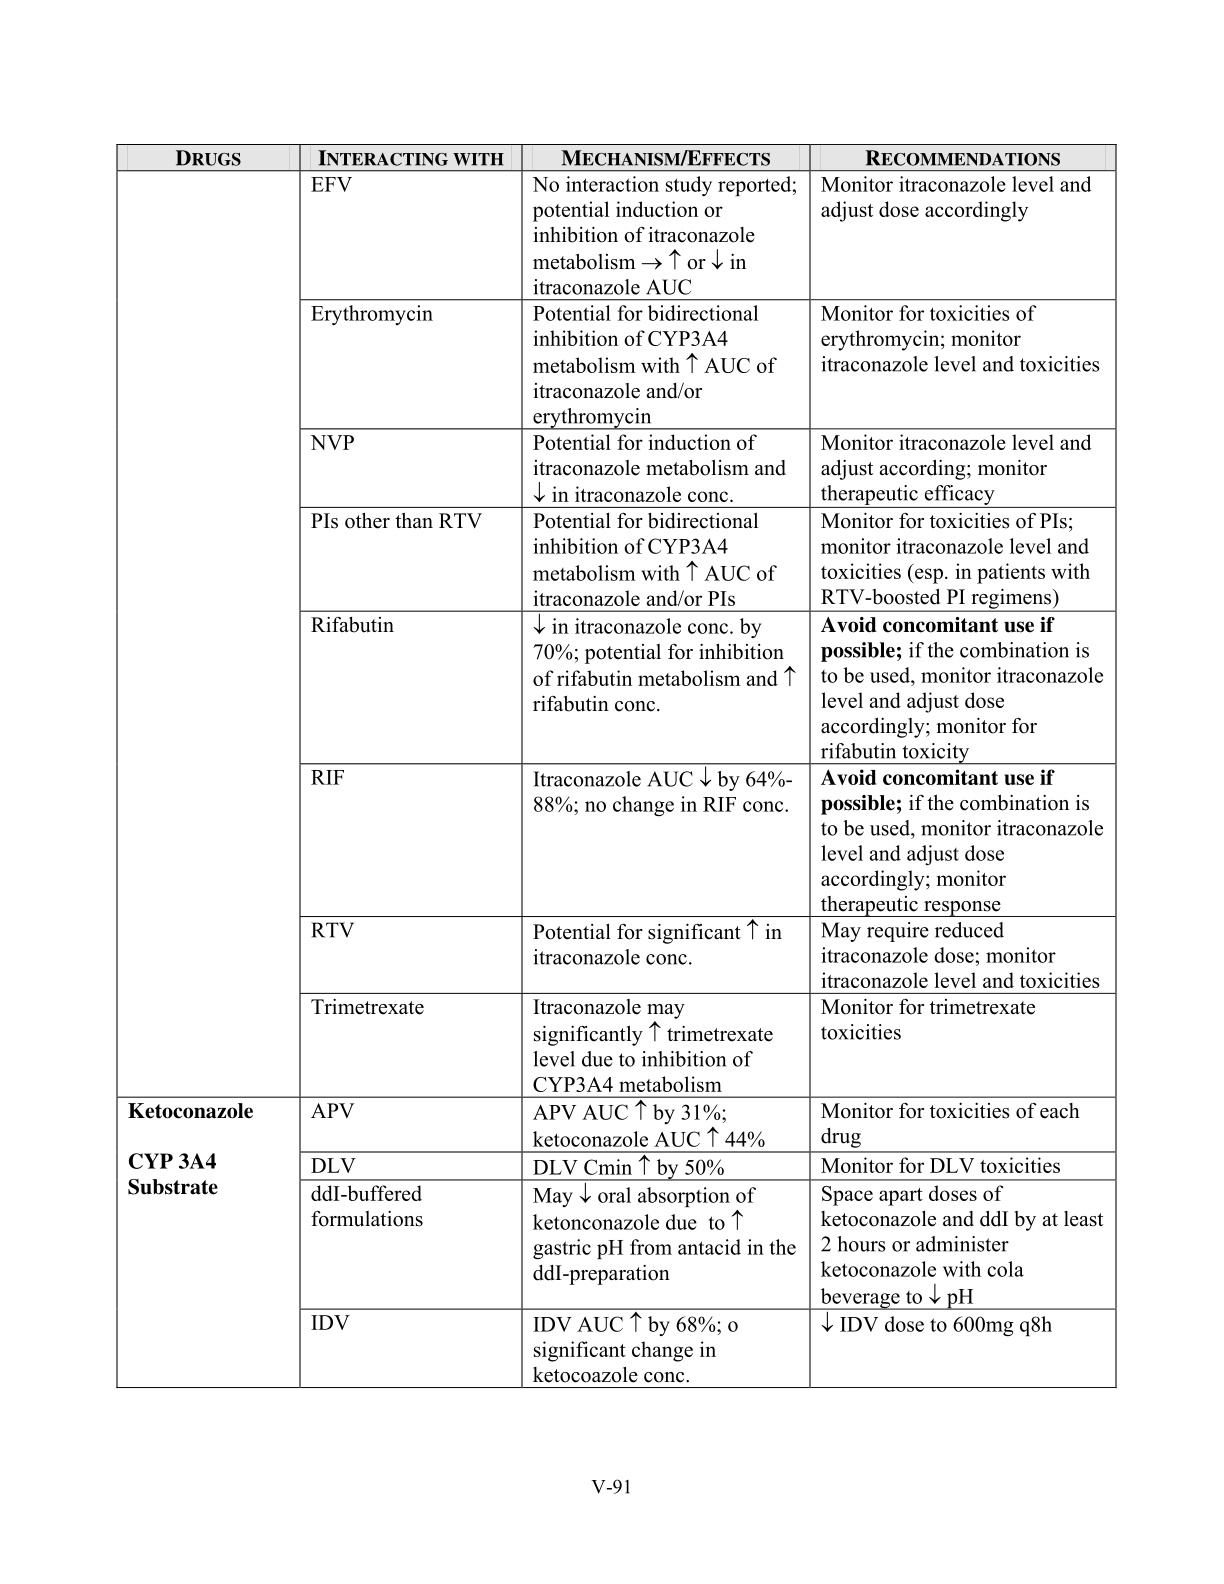merged_cells: (114, 143, 1119, 1389)
